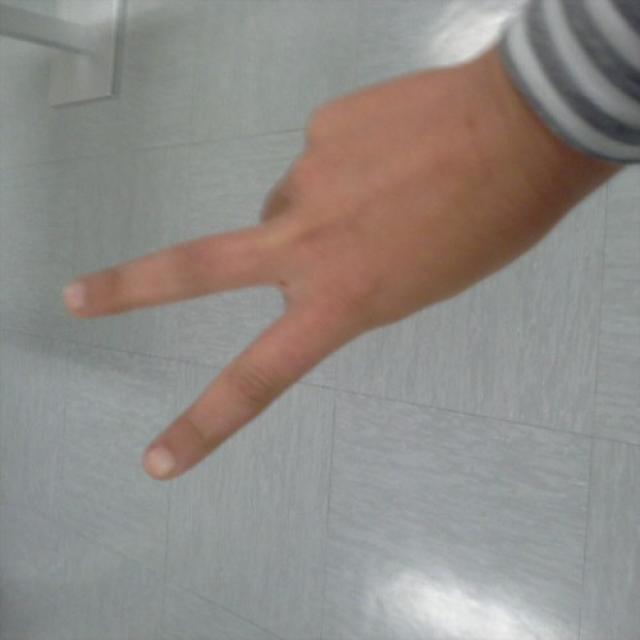scissors: (63, 81, 374, 483)
